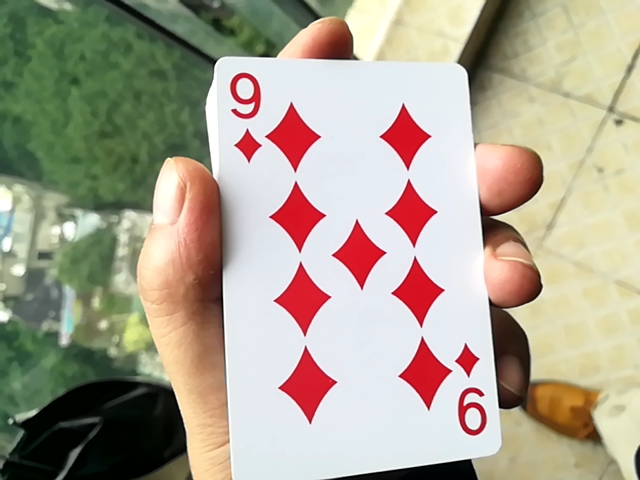fk 9: (204, 28, 492, 475)
